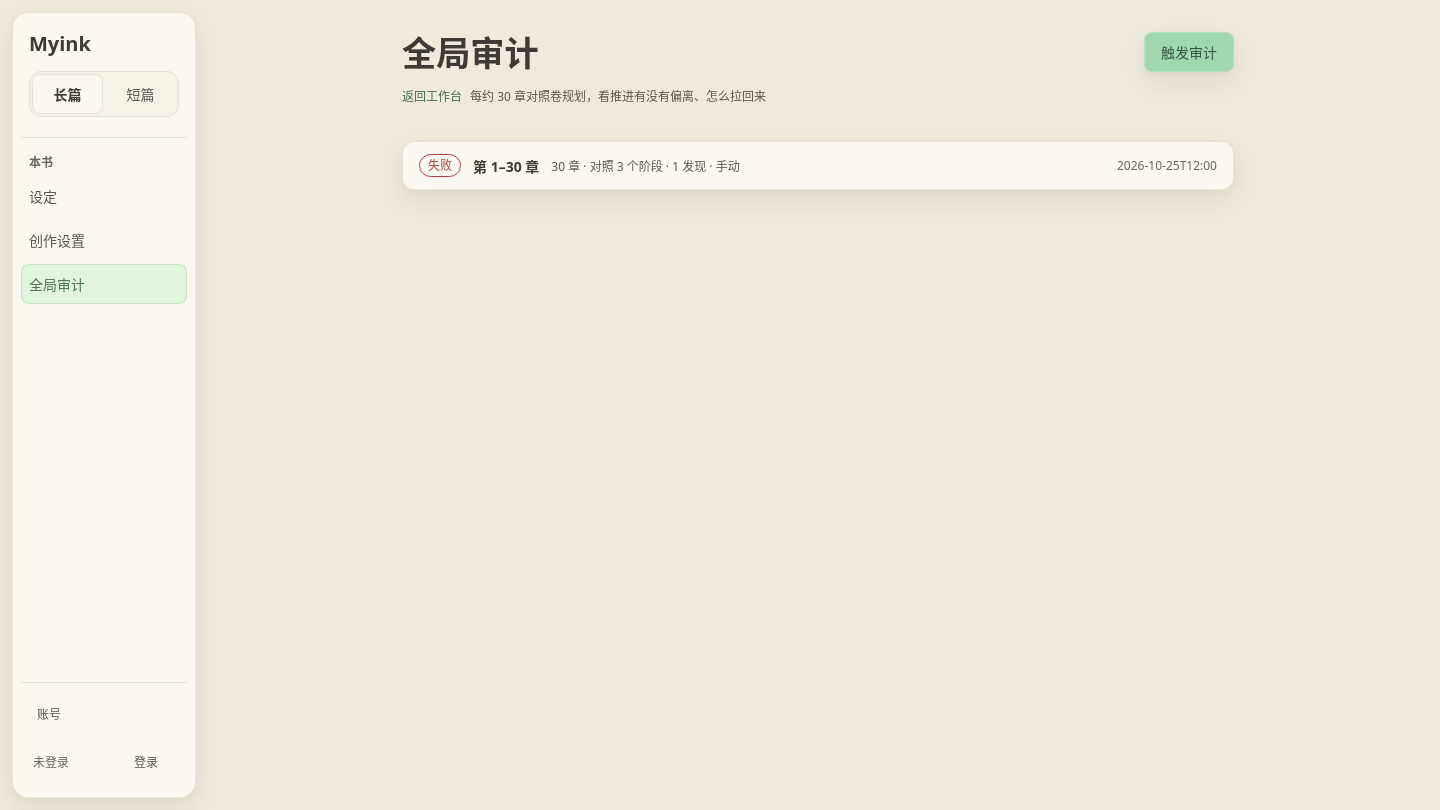
expands and collapses report details and exposes failed reasons
Click the button "失败 第 1–30 章 30 章 · 对照 3 个阶段 · 1 发现 · 手动 2026-10-25T12:00" at (440, 166), box [403, 142, 1233, 189]
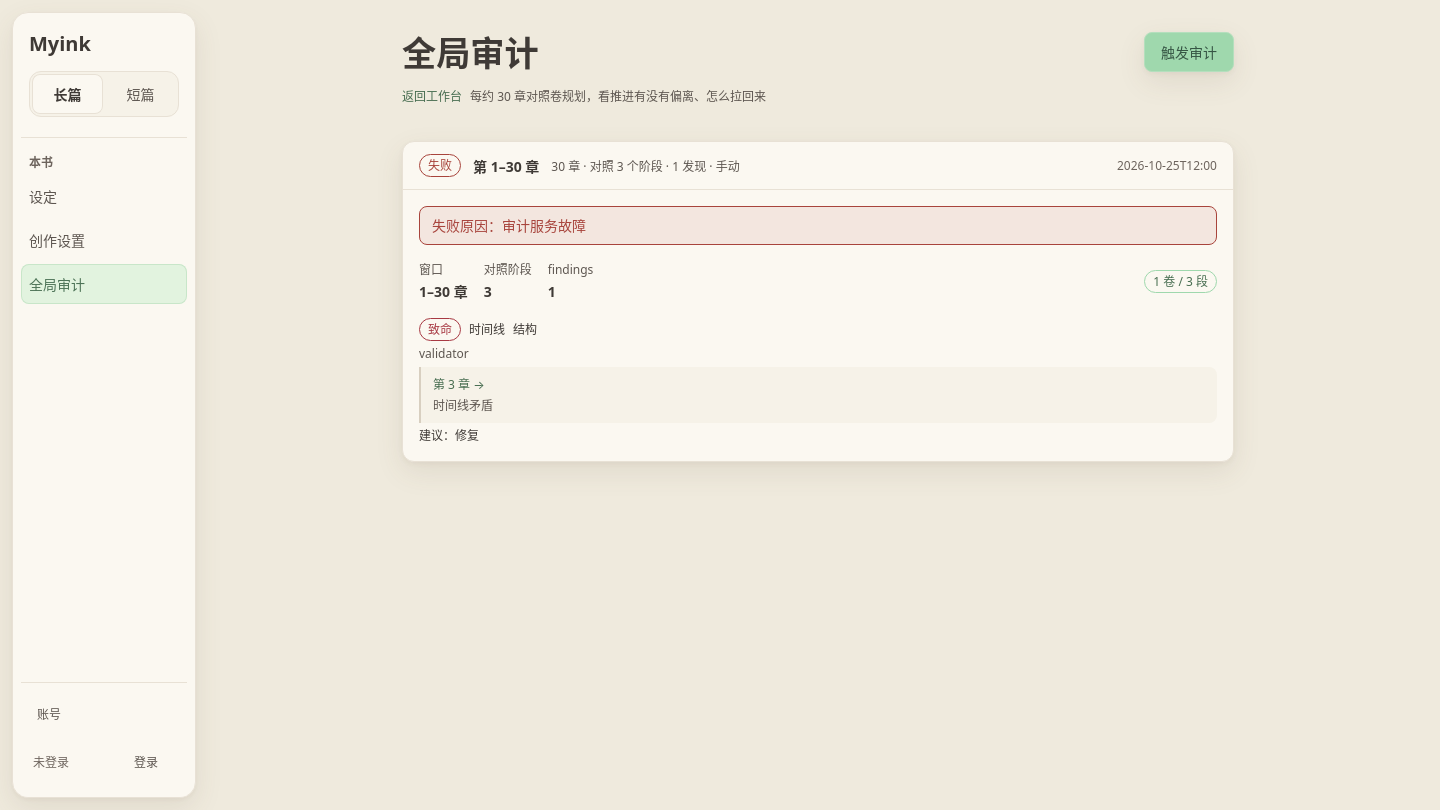
Result: the text "失败原因：审计服务故障" is shown at [419, 206, 1217, 245]
Click the button "失败 第 1–30 章 30 章 · 对照 3 个阶段 · 1 发现 · 手动 2026-10-25T12:00" at (440, 166), box [403, 142, 1233, 189]
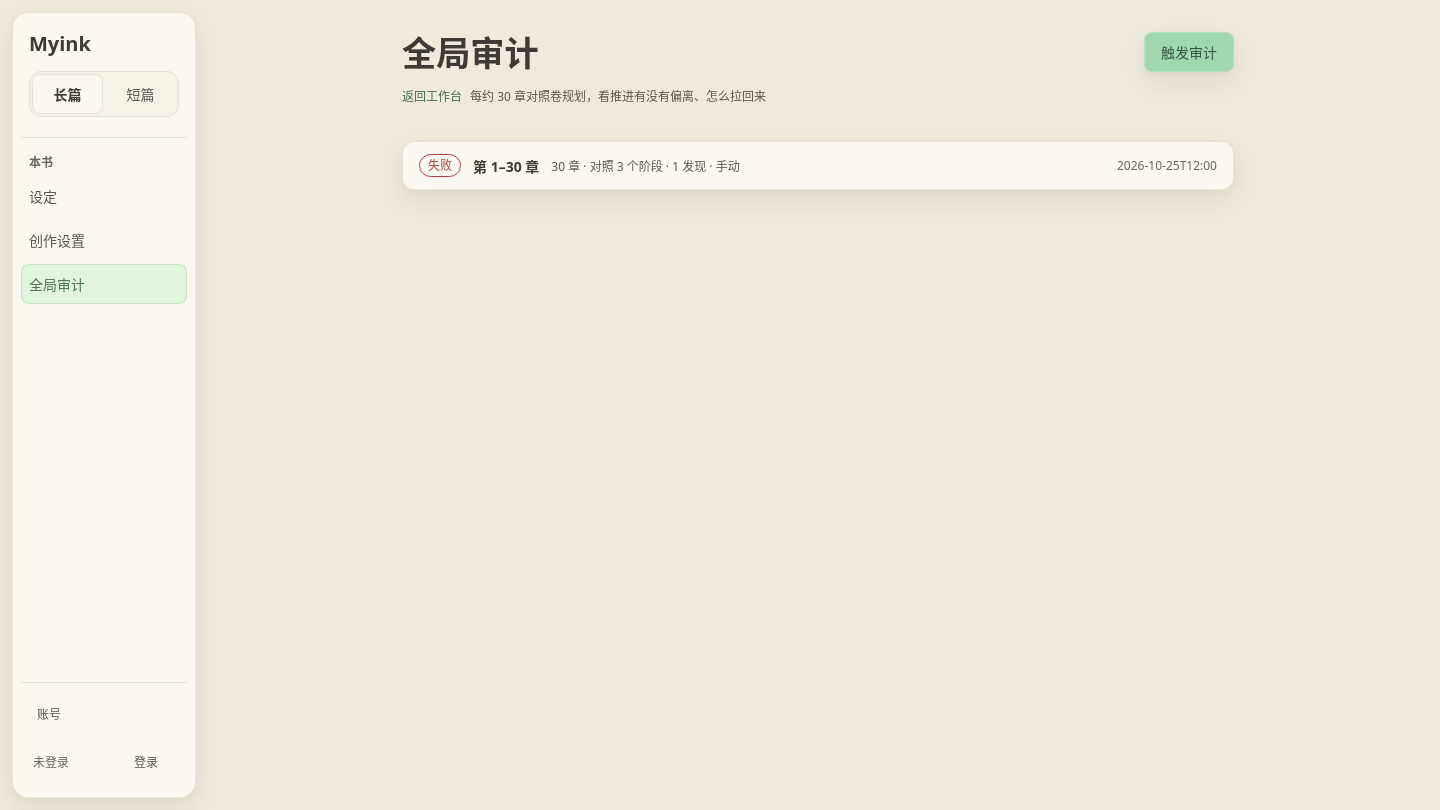
Result: the text "失败原因：审计服务故障" is gone
